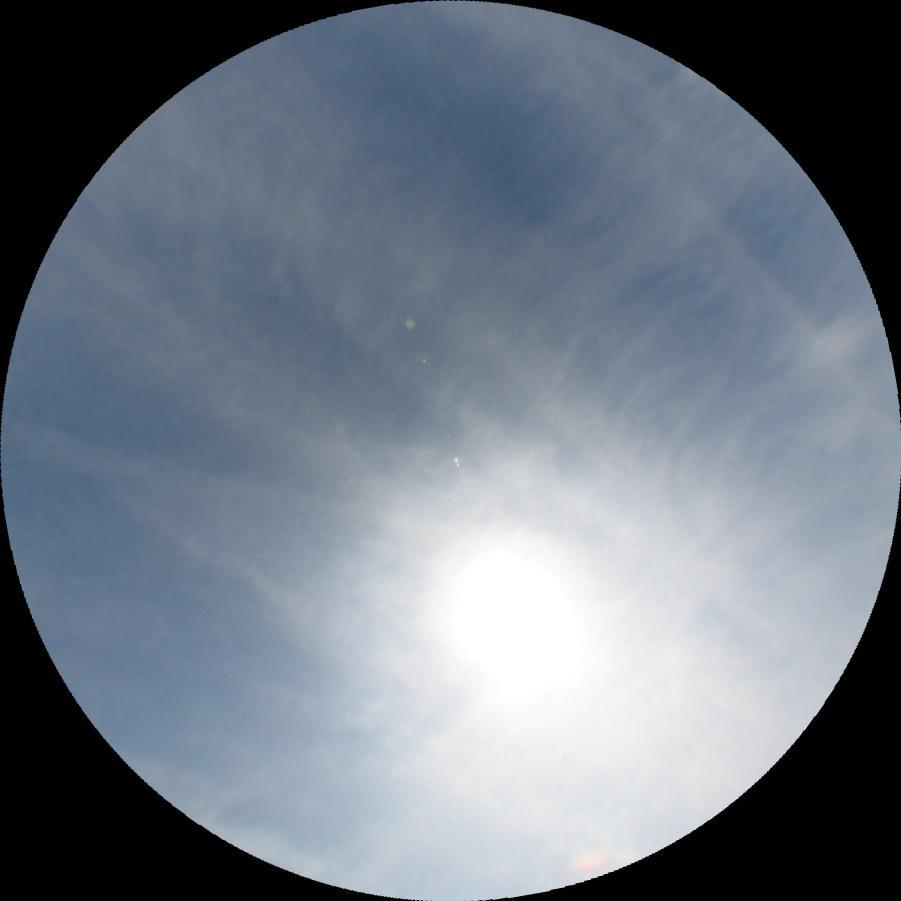sun: (422, 529, 601, 718)
